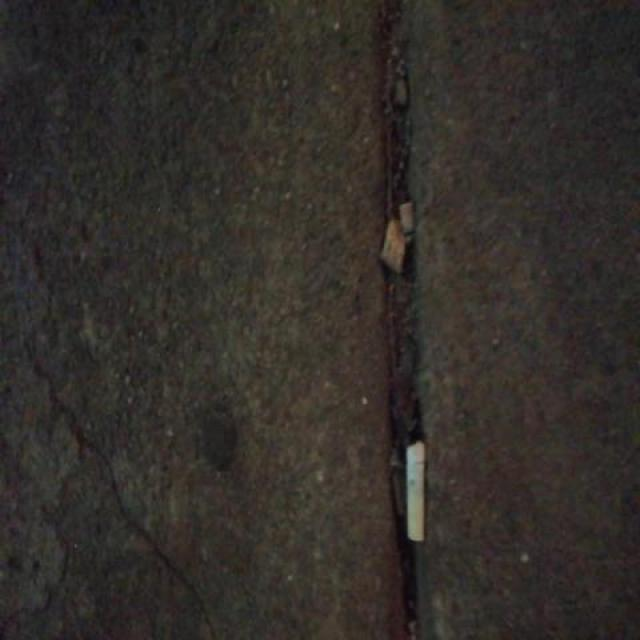non-organic waste: (404, 440, 428, 548)
